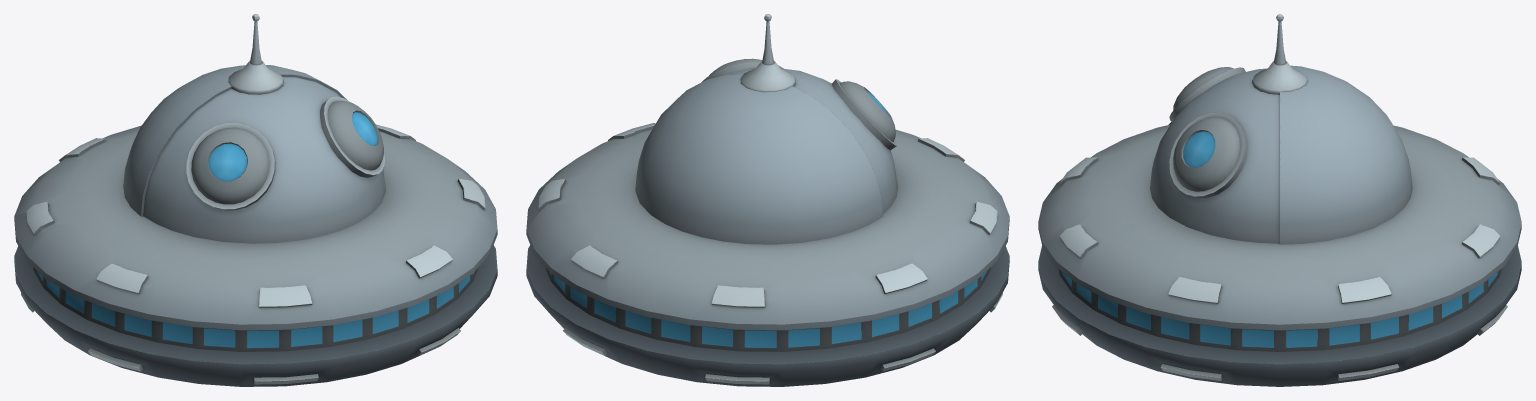
Rendered from 03-adan.glb.
3 renders of one model, left to right at view 1: azimuth 30°, elevation 25°; view 2: azimuth 150°, elevation 25°; view 3: azimuth 270°, elevation 25°, orthographic.
Parts seen in each view (by area): view 1: UFO.011; view 2: UFO.011; view 3: UFO.011.
Part boxes in pixels (x1,y1,x2,y2): UFO.011: (14,14,497,386); UFO.011: (526,14,1009,386); UFO.011: (1038,14,1521,386).
Size of the model in its own units: 475 by 347 by 475.
1 material, 1 textured.
